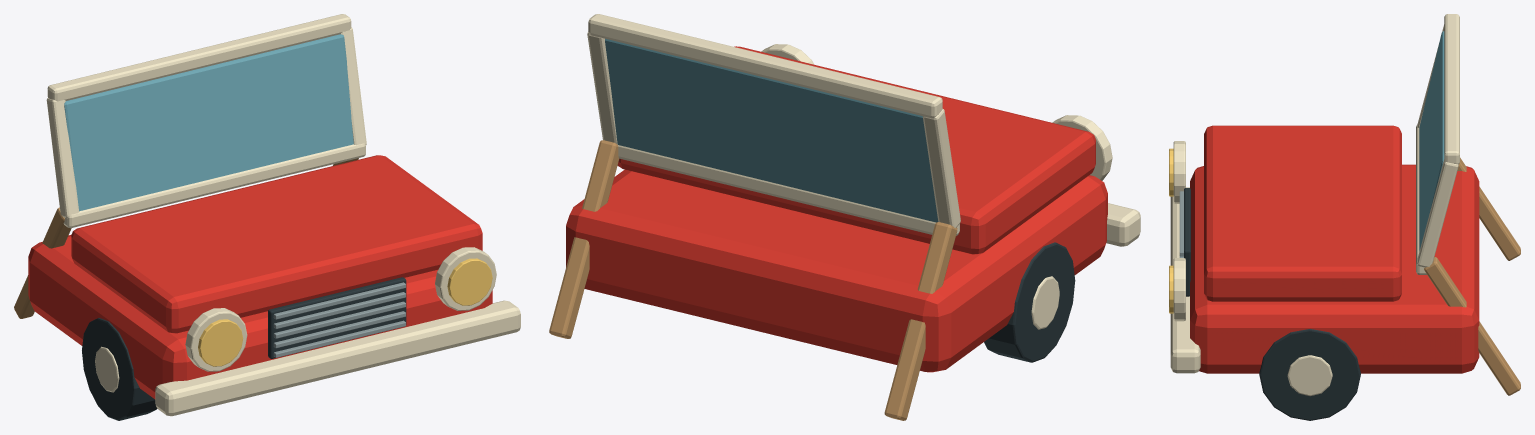
Rendered from S089_car_front_shell.glb.
3 renders of one model, left to right at view 1: azimuth 30°, elevation 25°; view 2: azimuth 150°, elevation 25°; view 3: azimuth 270°, elevation 25°, orthographic. The views are drawn at different scales.
Parts seen in each view (by area): view 1: car_hood, windshield_fake_glass, car_lower_shell, bumper, windshield_top, windshield_bottom, car_front_wheel_tire, grille_dark, windshield_pillar, headlight.001, headlight, headlight_rim.001 (+9 smaller); view 2: car_lower_shell, windshield_fake_glass, car_hood, windshield_top, car_front_wheel_tire, windshield_bottom, rear_plywood_brace, rear_plywood_brace.001, windshield_pillar, windshield_pillar.001, bumper, headlight_rim (+1 smaller); view 3: car_hood, car_lower_shell, car_front_wheel_tire.001, windshield_fake_glass, windshield_top, rear_plywood_brace.001, bumper, windshield_pillar.001, car_front_wheel_hub.001, rear_plywood_brace, headlight_rim.001, headlight_rim (+2 smaller).
Boxes of the visible parts, bbox=[...] form: car_hood: bbox=[71, 155, 482, 333]; windshield_fake_glass: bbox=[64, 34, 353, 211]; car_lower_shell: bbox=[28, 234, 492, 399]; bumper: bbox=[155, 300, 520, 416]; windshield_top: bbox=[47, 14, 351, 101]; windshield_bottom: bbox=[63, 143, 365, 227]; car_front_wheel_tire: bbox=[82, 318, 157, 420]; grille_dark: bbox=[268, 277, 406, 358]; windshield_pillar: bbox=[46, 98, 79, 218]; headlight.001: bbox=[447, 258, 492, 305]; headlight: bbox=[198, 319, 243, 366]; headlight_rim.001: bbox=[435, 247, 496, 310]; car_lower_shell: bbox=[566, 169, 1107, 372]; windshield_fake_glass: bbox=[605, 38, 938, 222]; car_hood: bbox=[617, 46, 1095, 254]; windshield_top: bbox=[588, 14, 942, 118]; car_front_wheel_tire: bbox=[984, 242, 1075, 362]; windshield_bottom: bbox=[618, 145, 959, 235]; rear_plywood_brace: bbox=[884, 222, 957, 420]; rear_plywood_brace.001: bbox=[549, 140, 619, 338]; windshield_pillar: bbox=[922, 109, 960, 227]; windshield_pillar.001: bbox=[587, 32, 617, 144]; bumper: bbox=[1106, 203, 1140, 246]; headlight_rim: bbox=[1052, 115, 1112, 180]; car_hood: bbox=[1204, 125, 1401, 301]; car_lower_shell: bbox=[1190, 164, 1479, 373]; car_front_wheel_tire.001: bbox=[1259, 329, 1360, 420]; windshield_fake_glass: bbox=[1419, 31, 1444, 250]; windshield_top: bbox=[1444, 14, 1459, 164]; rear_plywood_brace.001: bbox=[1424, 257, 1520, 395]; bumper: bbox=[1170, 187, 1200, 373]; windshield_pillar.001: bbox=[1417, 159, 1458, 267]; car_front_wheel_hub.001: bbox=[1287, 355, 1332, 396]; rear_plywood_brace: bbox=[1457, 157, 1520, 260]; headlight_rim.001: bbox=[1173, 258, 1185, 321]; headlight_rim: bbox=[1173, 141, 1185, 203].
Size of the model in its own units: 2.25 by 1.65 by 2.01.
